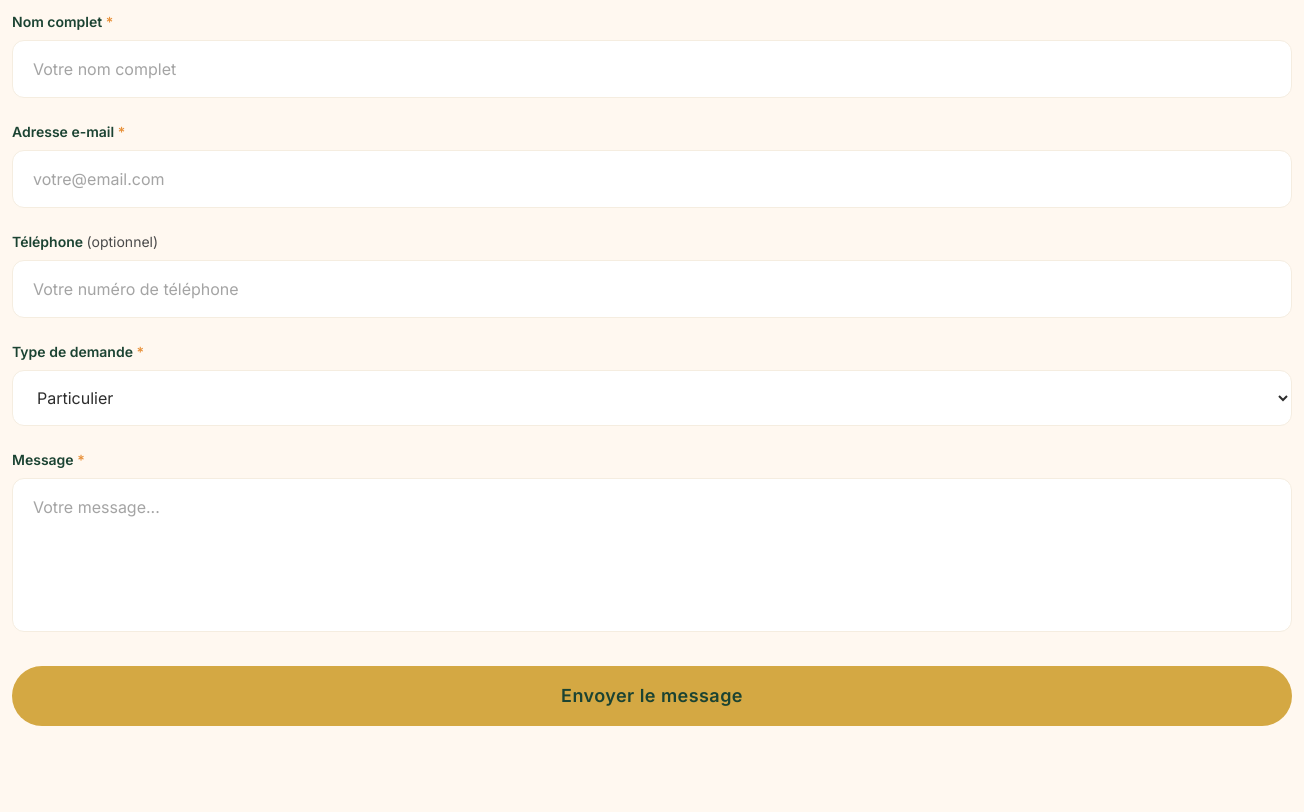
it: ContactForm › shows field-specific errors when submitting empty required fields
Note: Clear the fullName and message fields (they start empty), submit
Click the button "Envoyer le message" at (652, 696), box [12,666,1292,726]
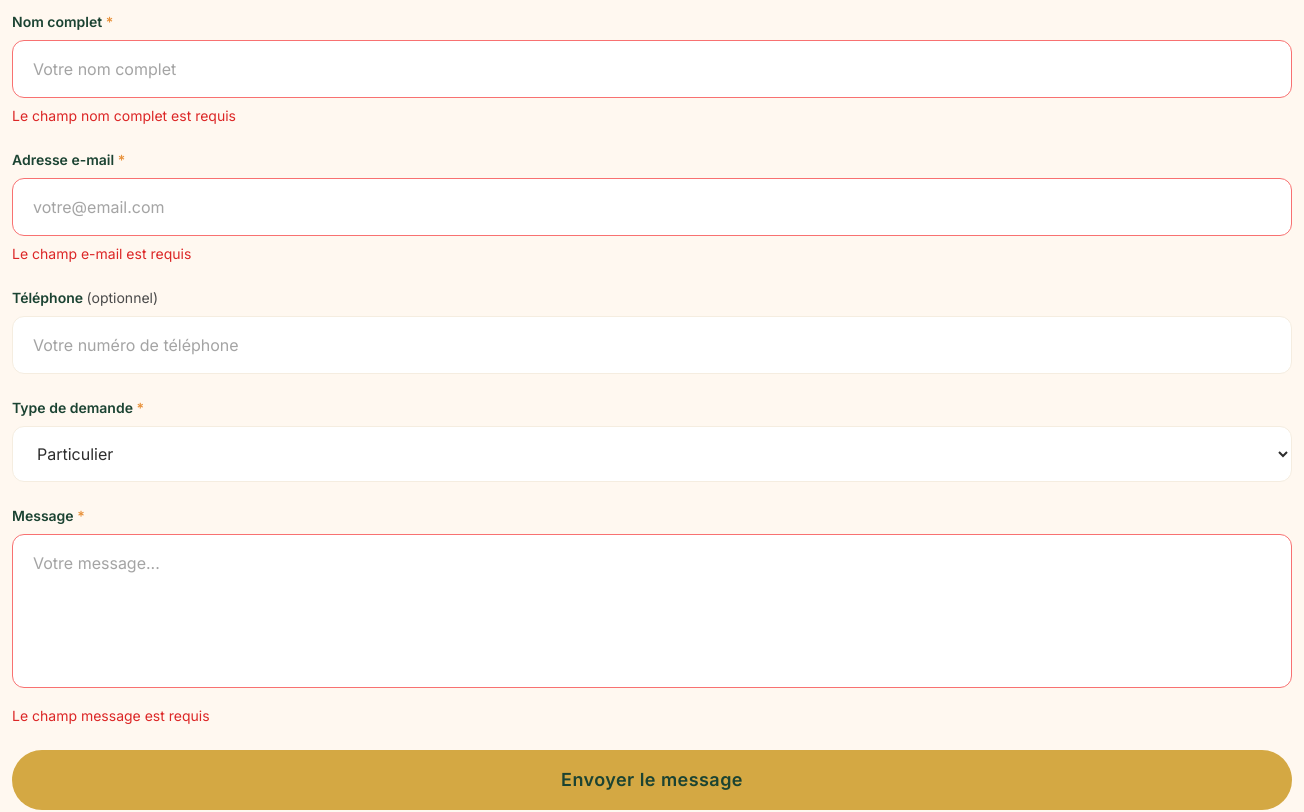
Check: the text "Le champ nom complet est requis" is shown, box [12,107,236,124]
Check: the text "Le champ e-mail est requis" is shown, box [12,245,191,262]
Check: the text "Le champ message est requis" is shown, box [12,707,210,724]
